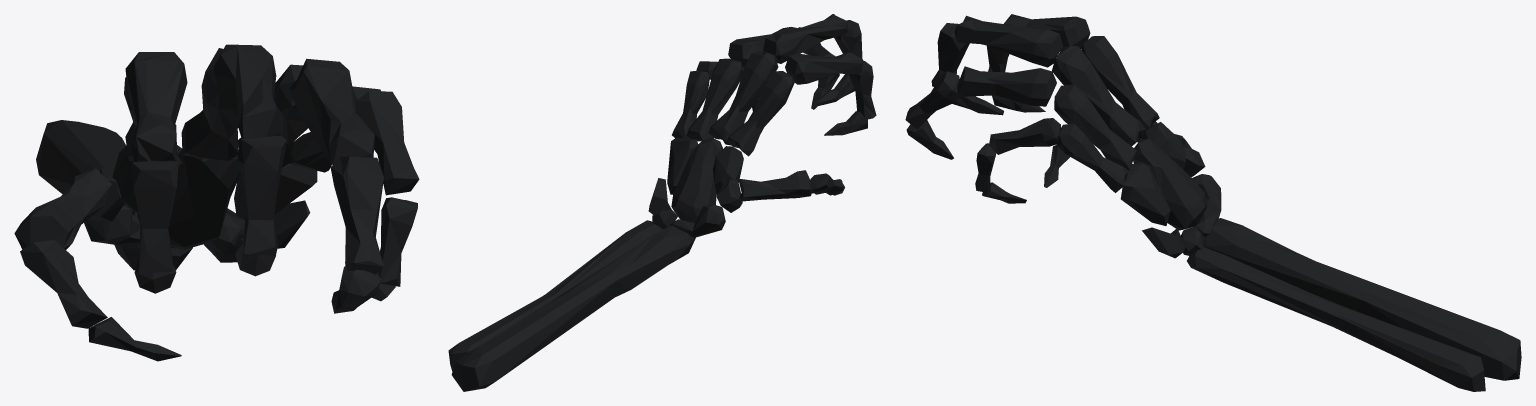
The model's file is pit_bone_hand_l.gltf.
3 views of the same model, side by side, from view 1: azimuth 30°, elevation 25°; view 2: azimuth 150°, elevation 25°; view 3: azimuth 270°, elevation 25° (orthographic). The views are drawn at different scales.
Visible parts, largest first — view 1: pit_bone_hand_l; view 2: pit_bone_hand_l; view 3: pit_bone_hand_l.
Boxes of the visible parts, x1=… form: pit_bone_hand_l: x1=14, y1=44, x2=419, y2=361; pit_bone_hand_l: x1=448, y1=14, x2=876, y2=391; pit_bone_hand_l: x1=905, y1=14, x2=1521, y2=391.
Size of the model in its own units: 6.9 by 6.85 by 13.6.
1 material, 1 textured.
